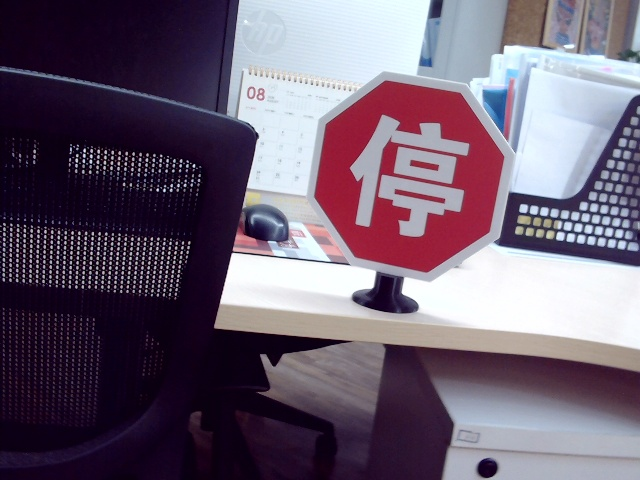stop: (349, 113, 471, 239)
